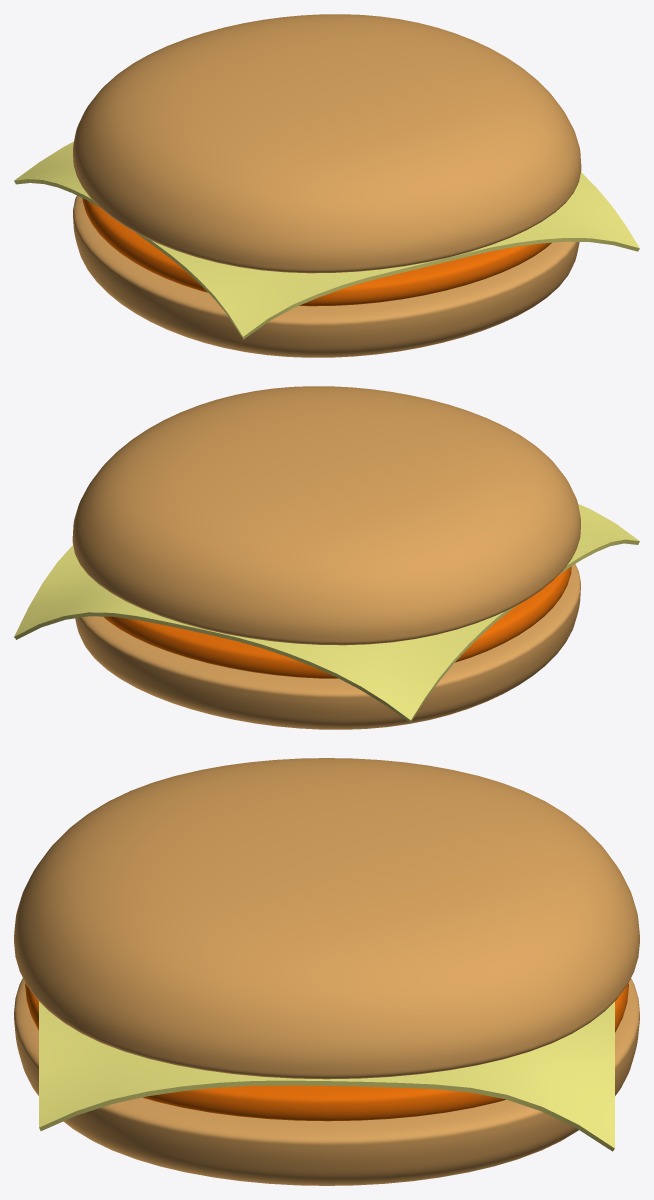
File: hamburger.glb
The picture shows the model from 3 angles, top to bottom: view 1: azimuth 30°, elevation 25°; view 2: azimuth 150°, elevation 25°; view 3: azimuth 270°, elevation 25°; orthographic projection. The views are drawn at different scales.
Visible parts, largest first — view 1: Cube.002, Cube, Plane, Cube.001; view 2: Cube.002, Cube, Plane, Cube.001; view 3: Cube.002, Cube, Plane, Cube.001.
Boxes of the visible parts, x1,y1,x2,y2 form: Cube.002: (73, 14, 581, 273); Cube: (73, 195, 579, 357); Plane: (14, 141, 639, 339); Cube.001: (82, 198, 551, 306); Cube.002: (72, 386, 580, 645); Cube: (75, 564, 580, 729); Plane: (14, 504, 639, 722); Cube.001: (103, 566, 571, 678); Cube.002: (14, 758, 639, 1079); Cube: (14, 978, 639, 1185); Plane: (39, 1001, 614, 1151); Cube.001: (25, 983, 628, 1121).
Size of the model in its own units: 9.09 by 4.1 by 9.09.
